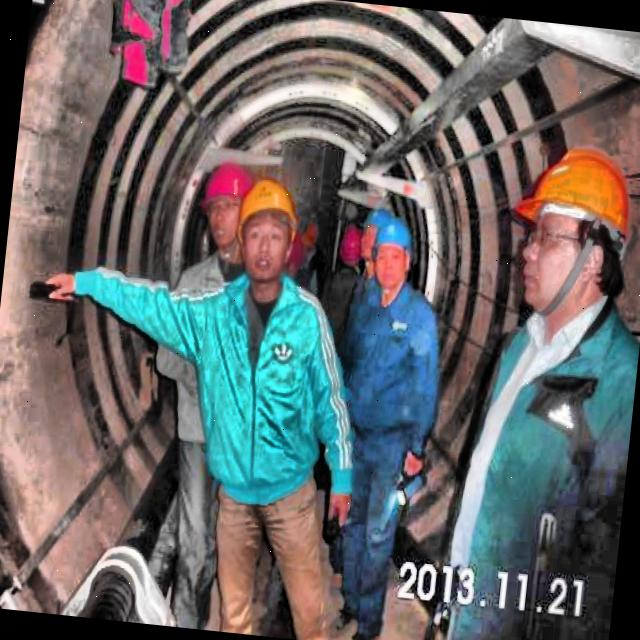helmet: (502, 131, 640, 334), (226, 165, 306, 291), (196, 158, 256, 253), (364, 202, 421, 294), (356, 208, 393, 264), (333, 220, 362, 277)
